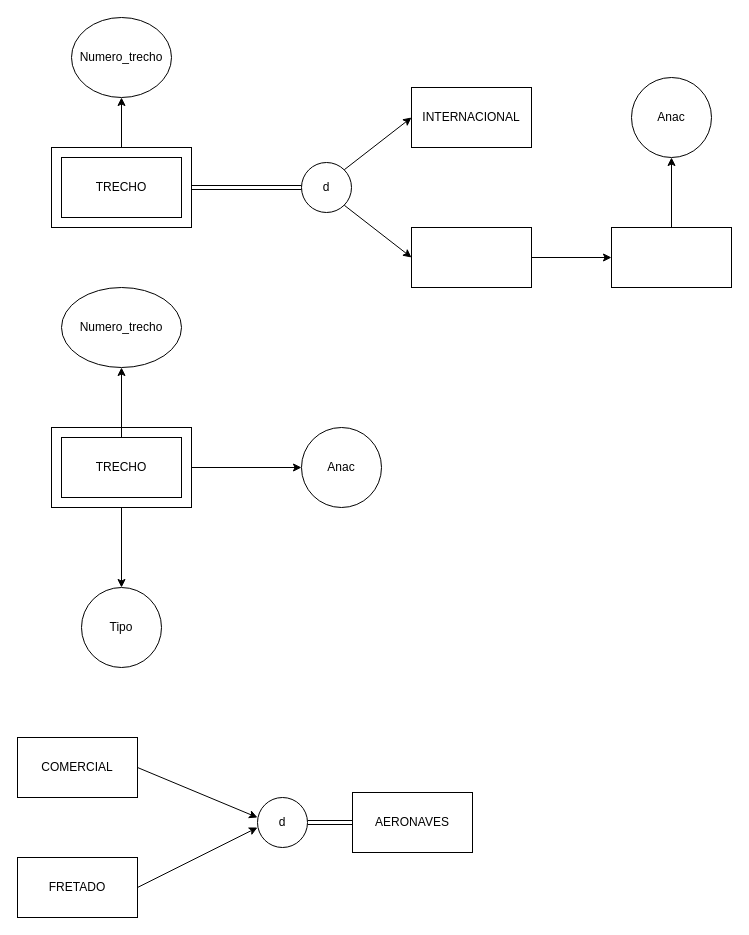
This 749x935 diagram has some shape labels left out. Here are the shapes that lost their labels. From the top down, the centre of each, then its label:
At (471,257): "NACIONAL".
At (671,257): "PONTE AÉREA".
